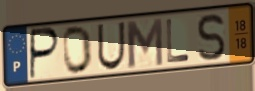L: (164, 18, 191, 65)
M: (124, 16, 165, 70)
O: (61, 25, 94, 77)
P: (28, 26, 62, 82)
S: (196, 12, 226, 63)
U: (96, 20, 127, 72)
